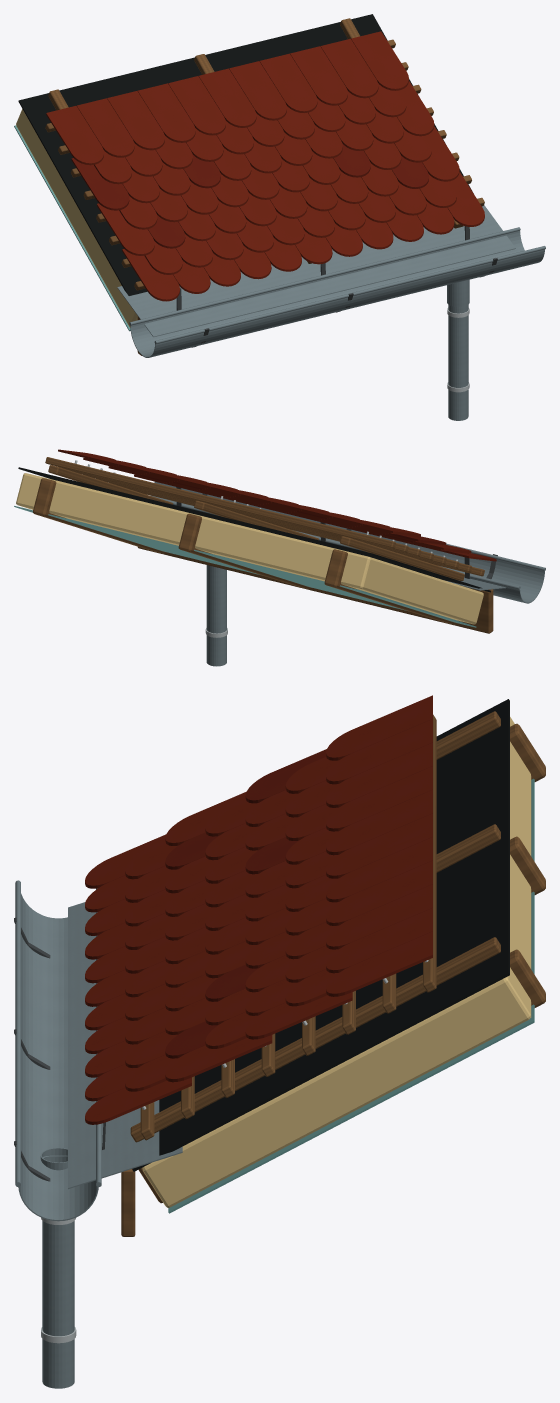
The model's file is modell.glb.
3 views of the same model, one above another, from view 1: azimuth 30°, elevation 25°; view 2: azimuth 150°, elevation 25°; view 3: azimuth 270°, elevation 25° (orthographic). The views are drawn at different scales.
Parts seen in each view (by area): view 1: s02-deckziegel_deckung, s02-traufblech_zusatzebene, s02-rinne_, s02-zusatzebene_zusatzebene, s02-deckziegel_deckung.001, s02-daemmung_daemmung, s02-fallrohr_, s02-lattung_lattung, s02-luftdichtheit_luftdichtheit, s02-stutzen_; view 2: s02-daemmung_daemmung, s02-lattung_lattung, s02-deckziegel_deckung, s02-rinne_, s02-sparren_tragwerk, s02-luftdichtheit_luftdichtheit, s02-zusatzebene_zusatzebene, s02-fallrohr_, s02-lattung_tragwerk, s02-deckziegel_deckung.001, s02-traufblech_zusatzebene, s02-halter_; view 3: s02-deckziegel_deckung, s02-zusatzebene_zusatzebene, s02-daemmung_daemmung, s02-rinne_, s02-lattung_lattung, s02-traufblech_zusatzebene, s02-deckziegel_deckung.001, s02-fallrohr_, s02-sparren_tragwerk, s02-luftdichtheit_luftdichtheit, s02-lattung_tragwerk.
Boxes of the visible parts, x1,y1,x2,y2 form: s02-deckziegel_deckung: (46,31,484,301); s02-traufblech_zusatzebene: (117,205,515,337); s02-rinne_: (129,227,545,357); s02-zusatzebene_zusatzebene: (18,14,473,295); s02-deckziegel_deckung.001: (71,143,428,248); s02-daemmung_daemmung: (16,109,137,327); s02-fallrohr_: (448,304,468,420); s02-lattung_lattung: (45,18,484,290); s02-luftdichtheit_luftdichtheit: (14,125,130,331); s02-stutzen_: (447,279,469,306); s02-daemmung_daemmung: (16,473,483,624); s02-lattung_lattung: (45,457,484,580); s02-deckziegel_deckung: (58,449,496,561); s02-rinne_: (151,481,545,603); s02-sparren_tragwerk: (33,478,457,624); s02-luftdichtheit_luftdichtheit: (14,506,476,627); s02-zusatzebene_zusatzebene: (18,467,491,592); s02-fallrohr_: (206,565,226,666); s02-lattung_tragwerk: (138,547,493,633); s02-deckziegel_deckung.001: (139,474,446,544); s02-traufblech_zusatzebene: (447,577,506,590); s02-halter_: (176,487,497,579); s02-deckziegel_deckung: (85,695,432,1124); s02-zusatzebene_zusatzebene: (132,699,509,1171); s02-daemmung_daemmung: (142,717,531,1207); s02-rinne_: (15,880,101,1221); s02-lattung_lattung: (130,711,500,1142); s02-traufblech_zusatzebene: (68,902,182,1189); s02-deckziegel_deckung.001: (165,749,326,1058); s02-fallrohr_: (42,1221,74,1388); s02-sparren_tragwerk: (138,723,545,1203); s02-luftdichtheit_luftdichtheit: (168,778,534,1213); s02-lattung_tragwerk: (121,1169,135,1236).
Bounding box in the file's own units: 2.3 × 1.64 × 1.71.
9 materials, 4 textured.
